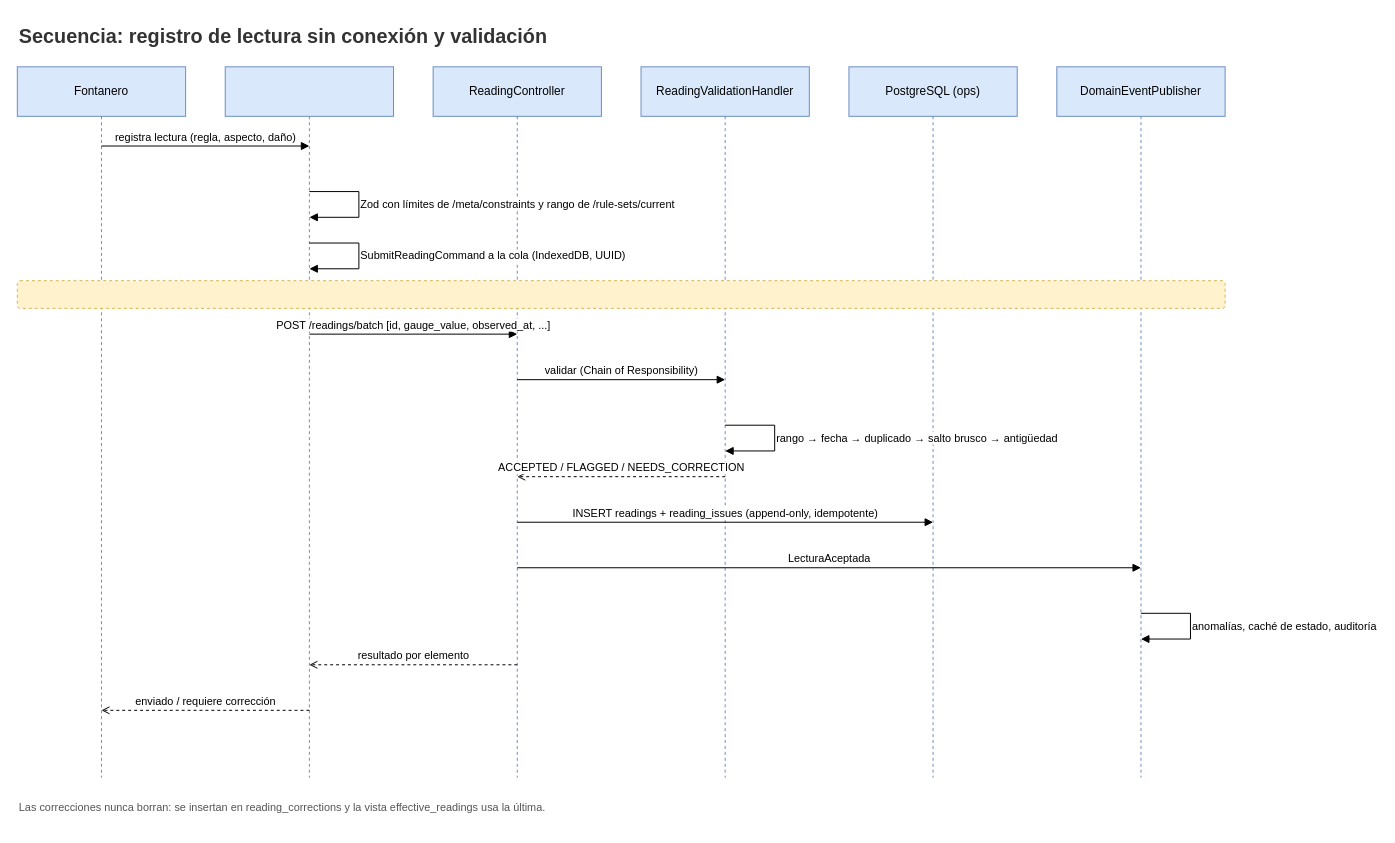
This 1395x843 diagram has some shape labels left out. The box of each missing label's shape, as (x1, y1, x2, y2) in pixels:
PWA (cola offline): (224, 66, 394, 778)
Sin señal: queda pendiente; al volver la red se envía el lote: (16, 280, 1225, 308)
